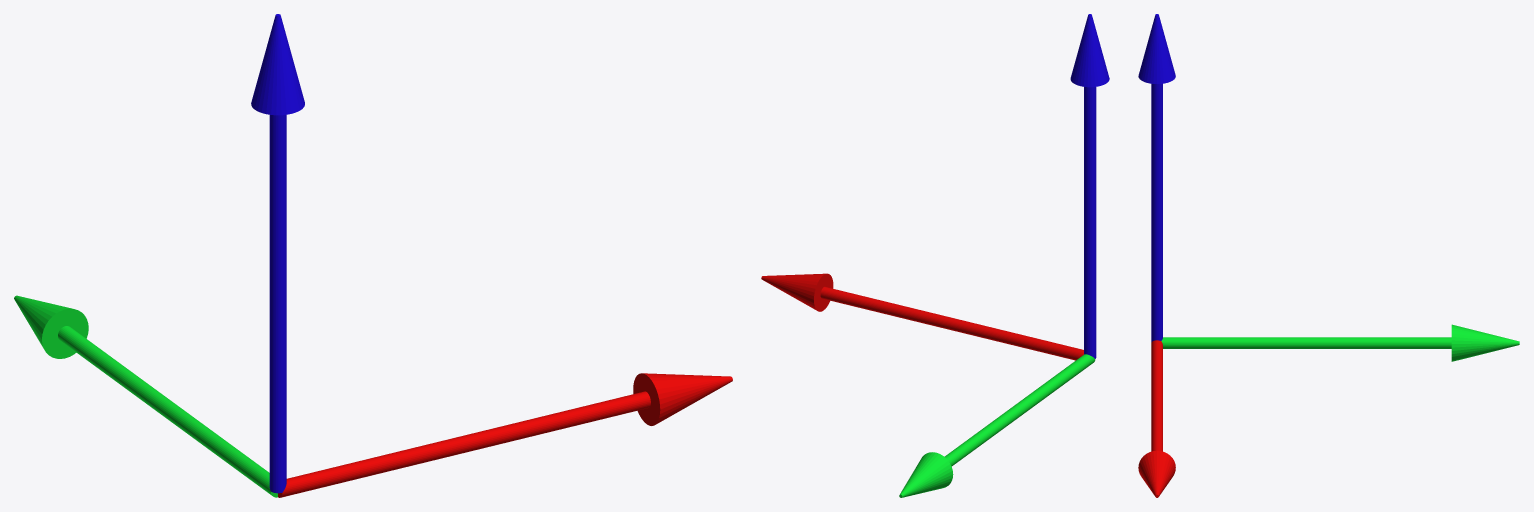
The model's file is arrows.fbx.
The picture shows the model from 3 angles, left to right: view 1: azimuth 30°, elevation 25°; view 2: azimuth 150°, elevation 25°; view 3: azimuth 270°, elevation 25°; orthographic projection. The views are drawn at different scales.
Visible parts, largest first — view 1: Cylinder; view 2: Cylinder; view 3: Cylinder.
Part boxes in pixels (box(x1,y1,x2,y2)): Cylinder: box(14, 14, 732, 497); Cylinder: box(761, 14, 1109, 497); Cylinder: box(1138, 14, 1519, 497).
Bounding box in the file's own units: 0.1291 × 0.1291 × 0.1291.
